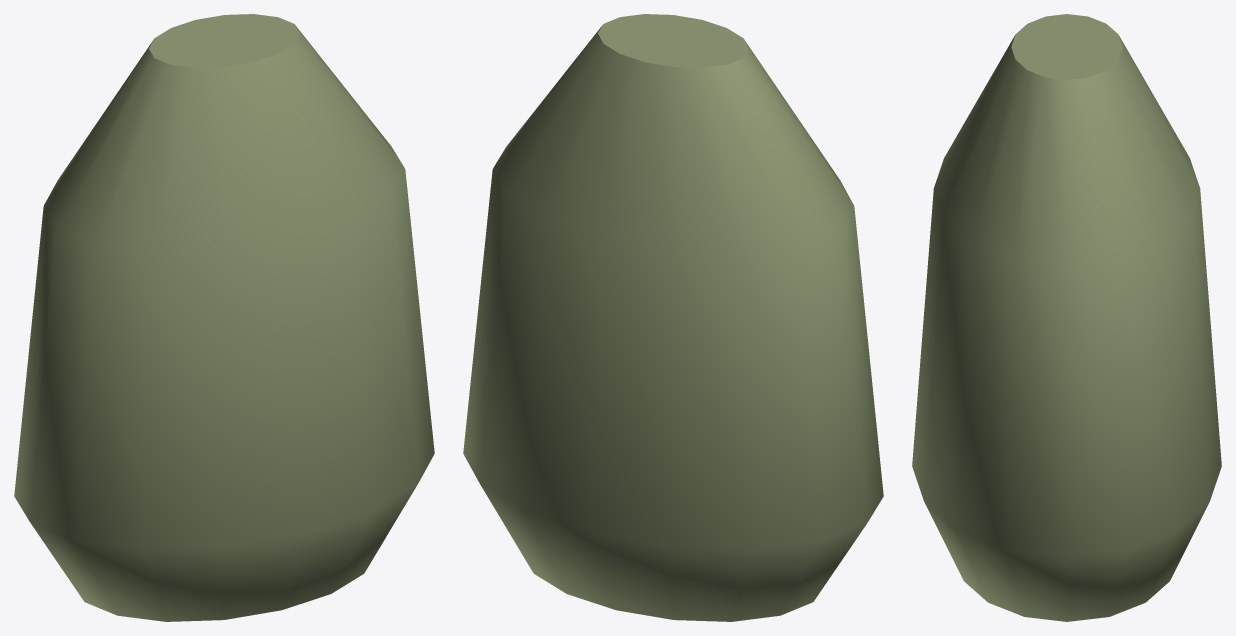
File: survival-food-and-preservation-nut-sack-16cb8df7__21751.glb
3 views of the same model, side by side, from view 1: azimuth 30°, elevation 25°; view 2: azimuth 150°, elevation 25°; view 3: azimuth 270°, elevation 25° (orthographic). The views are drawn at different scales.
Visible parts, largest first — view 1: nut-sack; view 2: nut-sack; view 3: nut-sack.
Boxes of the visible parts, x1=… form: nut-sack: x1=14, y1=14, x2=434, y2=621; nut-sack: x1=463, y1=14, x2=883, y2=621; nut-sack: x1=912, y1=14, x2=1221, y2=621.
Bounding box in the file's own units: 0.21 × 0.28 × 0.15.
